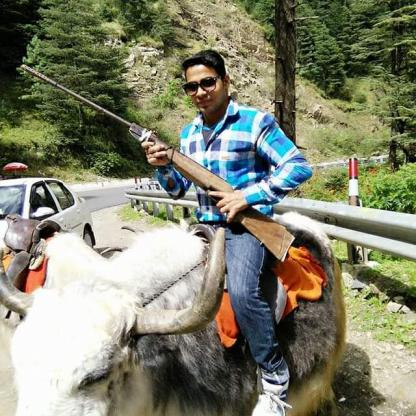rifle: (20, 63, 297, 265)
